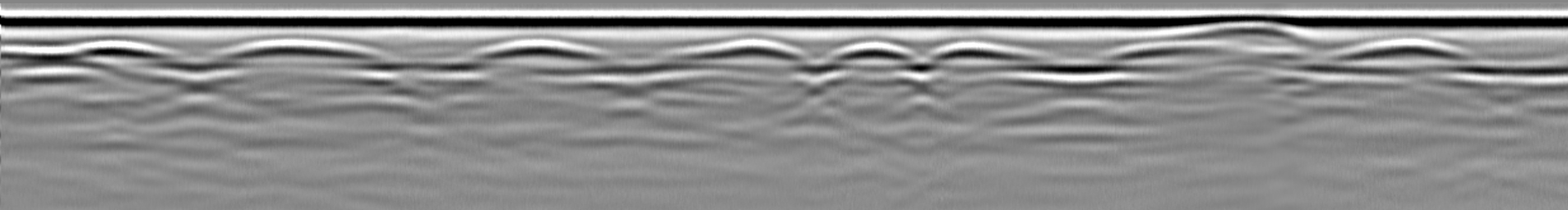pipe: (1155, 16, 1339, 47)
steel: (20, 38, 190, 70), (212, 38, 402, 65), (461, 38, 612, 66), (663, 38, 824, 64), (1338, 34, 1472, 65), (1101, 39, 1235, 65), (830, 38, 928, 66), (929, 42, 1037, 65)
